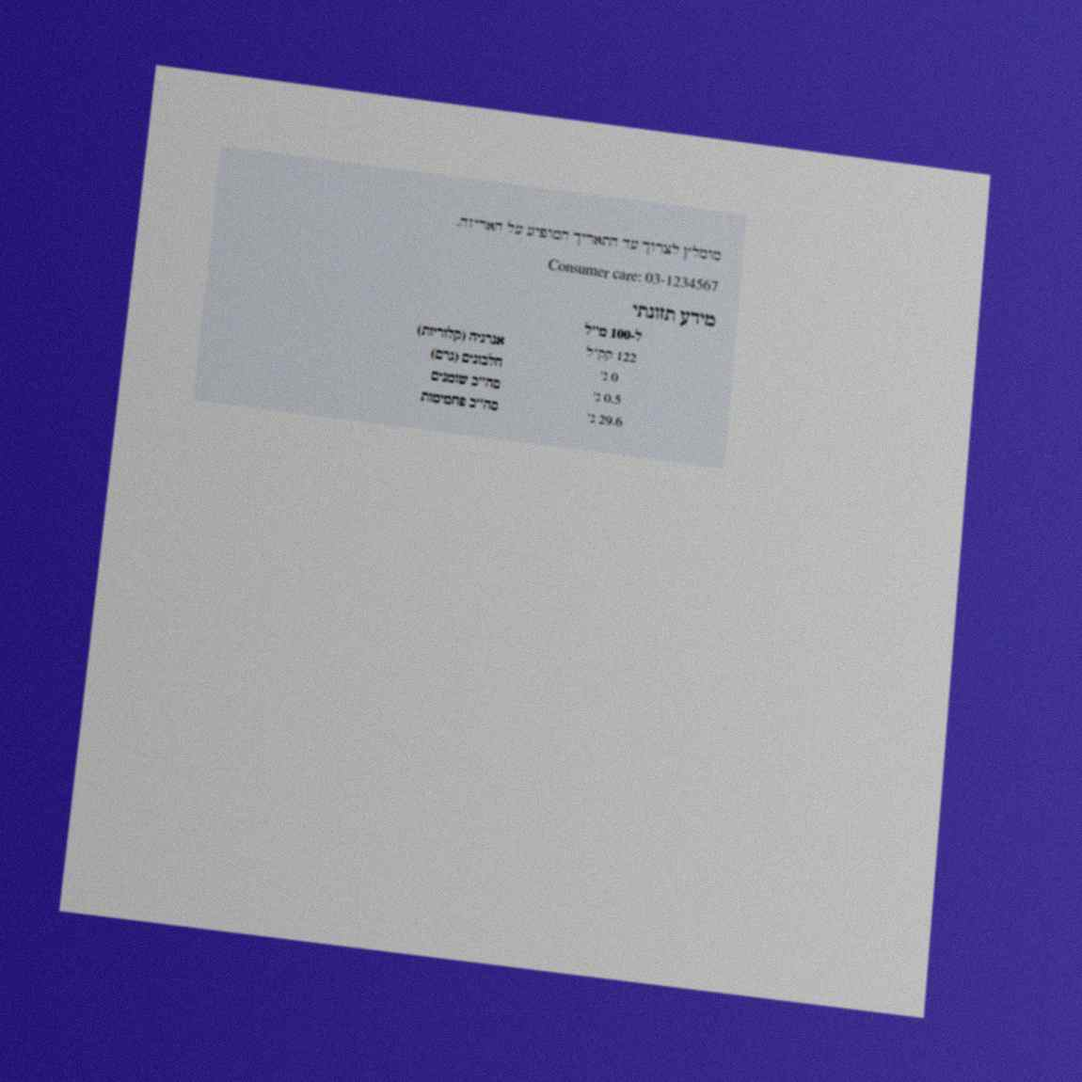carbs: (585, 409, 625, 431)
energy: (583, 343, 639, 367)
fat: (591, 388, 624, 409)
protein: (598, 367, 620, 386)
